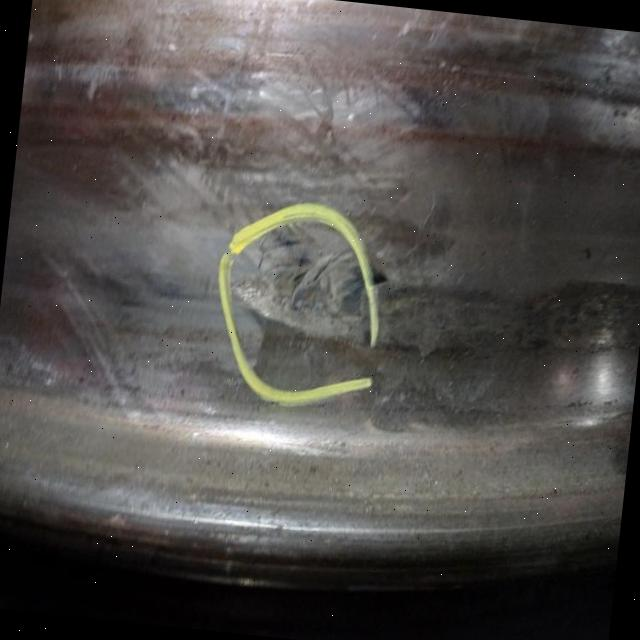Rollerpile: (234, 230, 366, 337)
